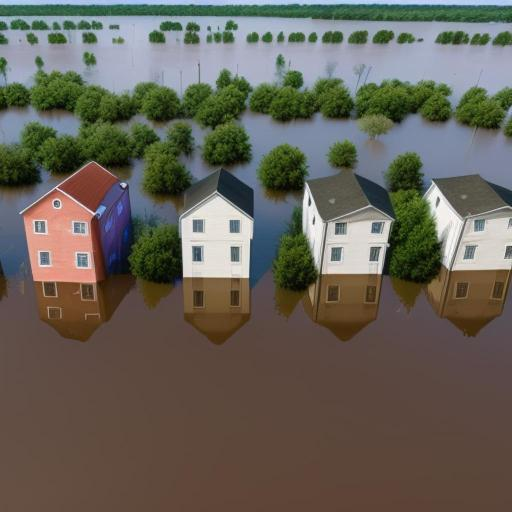flood: (0, 269, 512, 512), (227, 110, 512, 287), (0, 16, 512, 104), (0, 170, 65, 292), (112, 160, 182, 224), (0, 105, 80, 143), (118, 114, 170, 138), (185, 120, 210, 146)
house: (14, 156, 135, 281), (298, 168, 402, 274), (426, 170, 512, 272), (179, 173, 259, 277)
